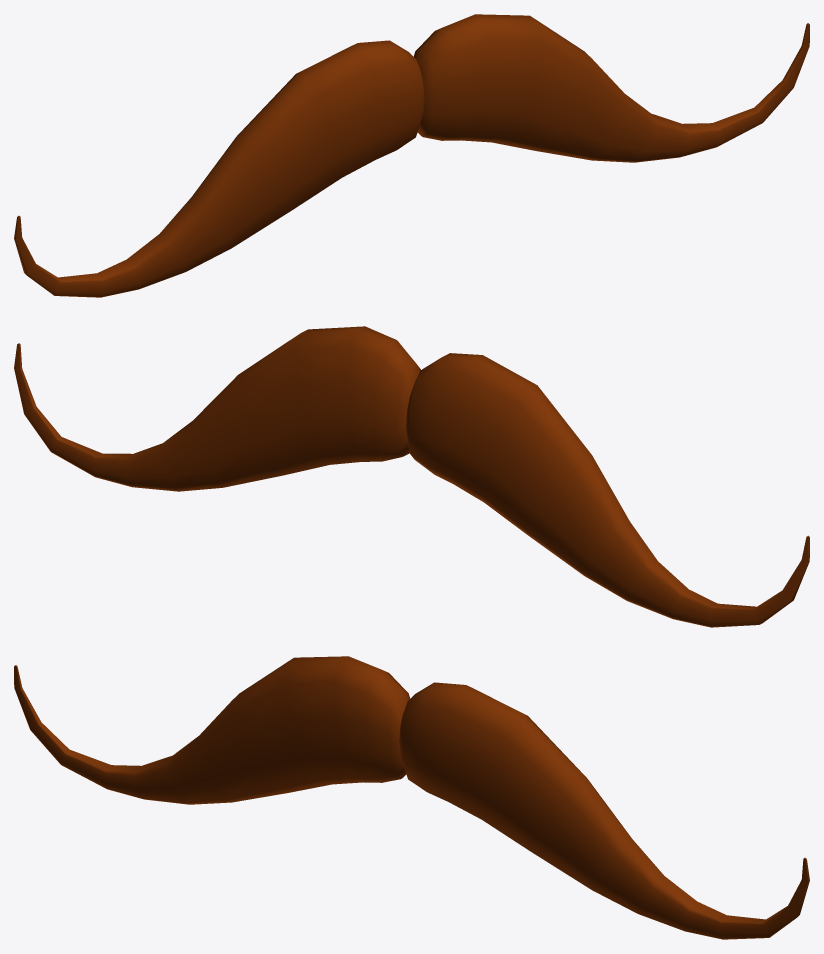
File: Beard_03_02.fbx
3 renders of one model, top to bottom at view 1: azimuth 30°, elevation 25°; view 2: azimuth 150°, elevation 25°; view 3: azimuth 330°, elevation 25°, orthographic.
Parts seen in each view (by area): view 1: Beard_03_02; view 2: Beard_03_02; view 3: Beard_03_02.
Boxes of the visible parts, x1,y1,x2,y2 form: Beard_03_02: [14, 14, 809, 297]; Beard_03_02: [14, 326, 809, 627]; Beard_03_02: [14, 656, 809, 939].
Size of the model in its own units: 21.7 by 5.23 by 1.69.
